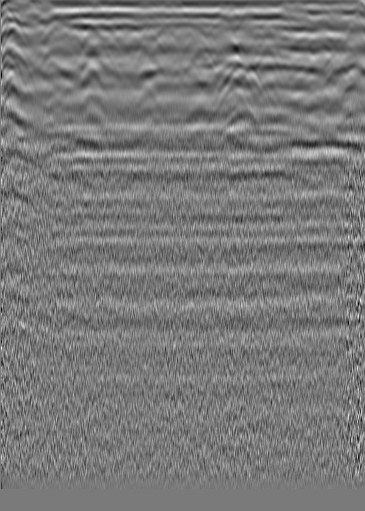가스: (217, 105, 257, 140)
상수: (311, 12, 331, 32)
오수: (24, 11, 44, 31)
우수: (157, 21, 177, 41)
